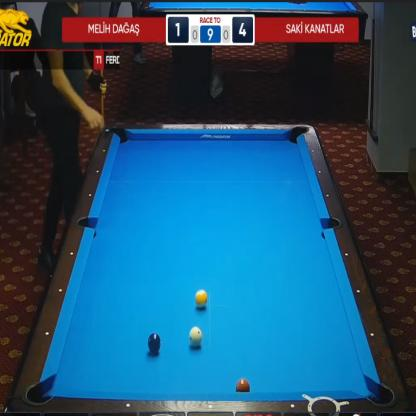Ball: (148, 332, 162, 354), (189, 326, 202, 348), (195, 289, 207, 308), (235, 378, 250, 392)
